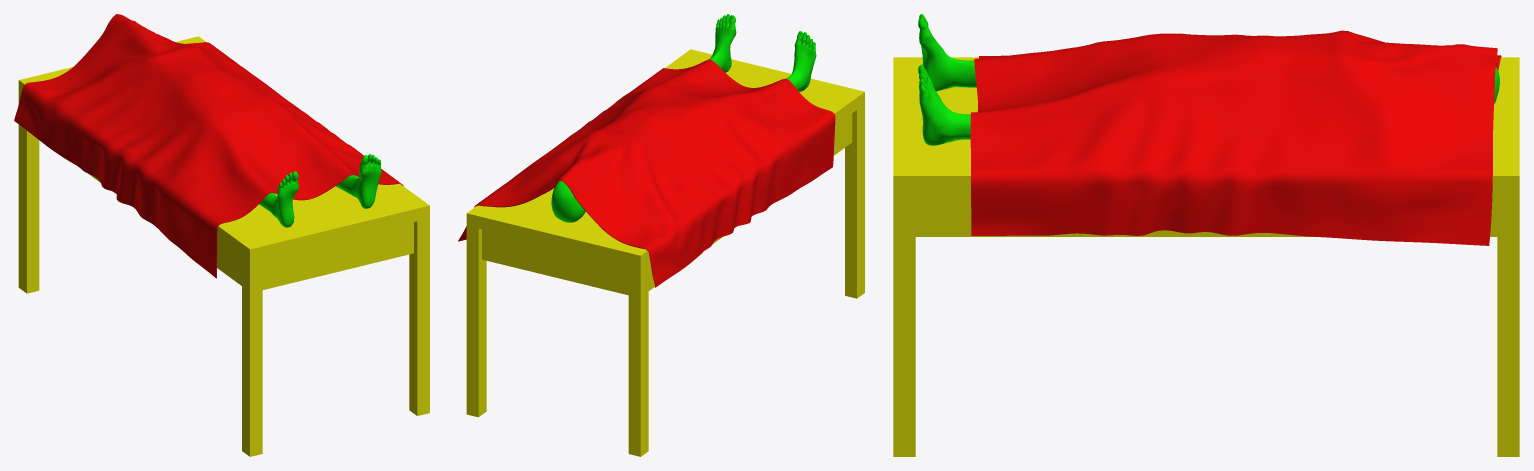
The model's file is FO_Body_Table.fbx.
3 views of the same model, side by side, from view 1: azimuth 30°, elevation 25°; view 2: azimuth 150°, elevation 25°; view 3: azimuth 270°, elevation 25° (orthographic). The views are drawn at different scales.
Visible parts, largest first — view 1: Cloth, Table, Body; view 2: Cloth, Table, Body; view 3: Cloth, Table, Body.
Part boxes in pixels (bbox=[...]): Cloth: bbox=[14, 14, 403, 278]; Table: bbox=[18, 36, 429, 456]; Body: bbox=[259, 154, 381, 227]; Cloth: bbox=[458, 59, 835, 287]; Table: bbox=[466, 49, 864, 456]; Body: bbox=[551, 14, 816, 222]; Cloth: bbox=[970, 30, 1501, 245]; Table: bbox=[893, 57, 1519, 456]; Body: bbox=[918, 14, 1499, 145].
Bounding box in the file's own units: 1.05 × 1.26 × 2.
